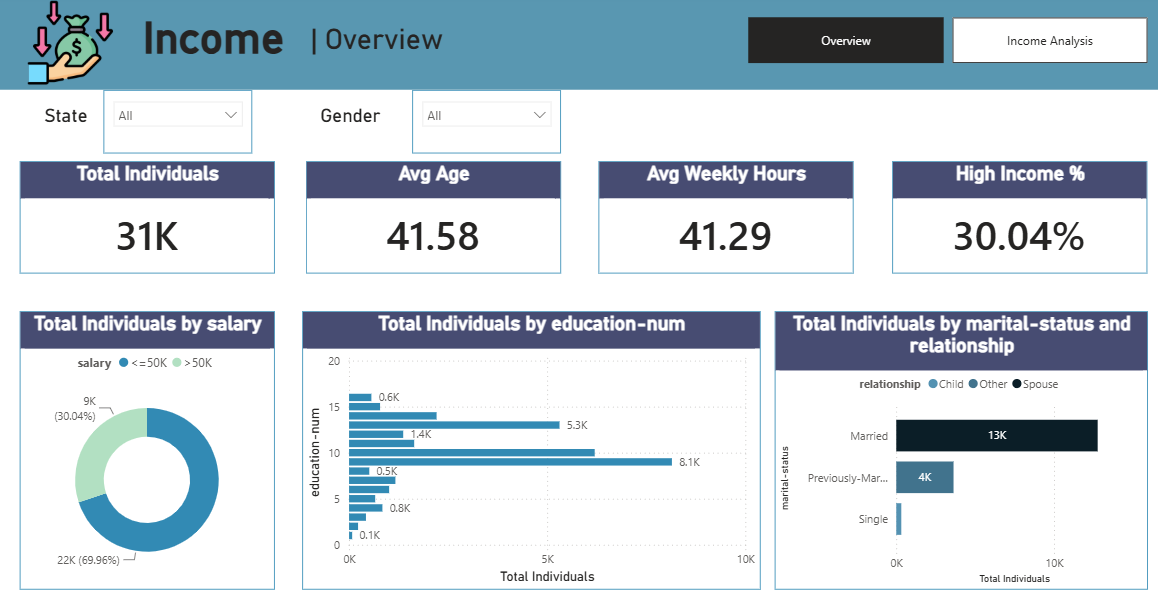

What the dashboard file says about the page in this screenshot:
{"tool":"powerbi","page":{"name":"Overview","canvas":[1280,720],"ordinal":0},"visuals":[{"type":"cardVisual","title":"Total Individuals","fields":{"Data":["_Measures.Total Individuals"]},"box":[26.1,182.1,279.9,123.5],"z":0},{"type":"cardVisual","title":"Avg Age","fields":{"Data":["_Measures.Avg Age"]},"box":[340.3,182.1,279.9,123.5],"z":1000},{"type":"cardVisual","title":"Avg Weekly Hours","fields":{"Data":["_Measures.Avg Weekly Hours"]},"box":[661.4,182.1,279.9,123.5],"z":2000},{"type":"cardVisual","title":"High Income %","fields":{"Data":["_Measures.High Income %"]},"box":[983.9,182.1,279.9,123.5],"z":3000},{"type":"textbox","box":[0,0,1280.3,104.3],"z":4000},{"type":"textbox","title":"Income ","box":[156.4,19.2,183.9,64.5],"z":5000},{"type":"textbox","title":"| Overview","box":[340.3,30.2,183.9,43.9],"z":6000},{"type":"image","box":[26.1,5.5,111.1,93.3],"z":7000},{"type":"slicer","fields":{"Values":["Dim_Geography.native-country"]},"box":[118.6,104.3,163.3,70],"z":8000},{"type":"textbox","title":"State","box":[48.6,121.4,70,35.7],"z":9000},{"type":"slicer","fields":{"Values":["Dim_Demographics.gender"]},"box":[457.1,104.3,163.3,70],"z":10000},{"type":"textbox","title":"Gender","box":[351.4,121.4,81,35.7],"z":11000},{"type":"donutChart","fields":{"Category":["Fact_Income.salary"],"Y":["_Measures.Total Individuals"]},"box":[25.7,347.1,280,305.7],"z":12000},{"type":"clusteredBarChart","fields":{"Y":["_Measures.Total Individuals"],"Category":["Fact_Income.education-num"]},"box":[335.7,347.1,502.9,305.7],"z":13000},{"type":"barChart","fields":{"Category":["Dim_Demographics.marital-status"],"Y":["_Measures.Total Individuals"],"Series":["Dim_Demographics.relationship"]},"box":[854.8,347.3,409.6,305.7],"z":14000},{"type":"pageNavigator","box":[825.7,24.3,438.6,50],"z":15000}]}

Visuals, with their boxes on the page's 1280x720 design canvas (x1, y1, x2, y2). These are canvas units, not pixel positions in the 1158x606 screenshot, which may show the page scaled, cropped or inside an application window:
"Total Individuals" cardVisual: select_region(26, 182, 306, 306)
"Avg Age" cardVisual: select_region(340, 182, 620, 306)
"Avg Weekly Hours" cardVisual: select_region(661, 182, 941, 306)
"High Income %" cardVisual: select_region(984, 182, 1264, 306)
textbox: select_region(0, 0, 1280, 104)
"Income " textbox: select_region(156, 19, 340, 84)
"| Overview" textbox: select_region(340, 30, 524, 74)
image: select_region(26, 6, 137, 99)
slicer - Dim_Geography.native-country: select_region(119, 104, 282, 174)
"State" textbox: select_region(49, 121, 119, 157)
slicer - Dim_Demographics.gender: select_region(457, 104, 620, 174)
"Gender" textbox: select_region(351, 121, 432, 157)
donutChart - Fact_Income.salary x _Measures.Total Individuals: select_region(26, 347, 306, 653)
clusteredBarChart - _Measures.Total Individuals x Fact_Income.education-num: select_region(336, 347, 839, 653)
barChart - Dim_Demographics.marital-status x _Measures.Total Individuals: select_region(855, 347, 1264, 653)
pageNavigator: select_region(826, 24, 1264, 74)
